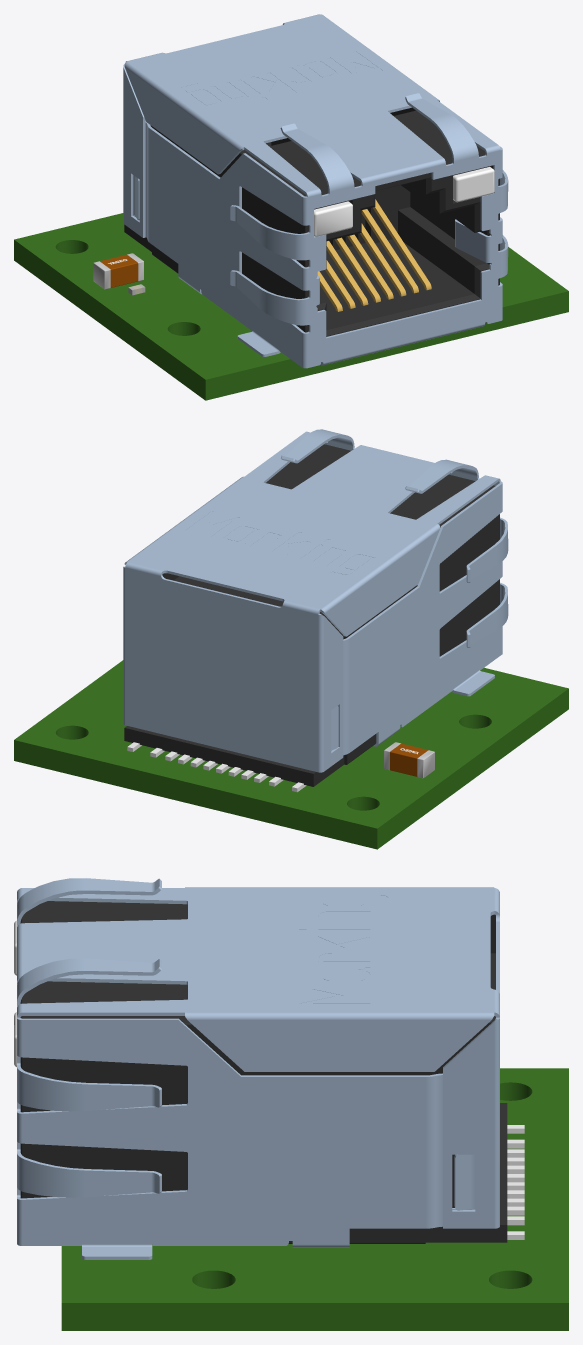
The model's file is LXR45-3d.glb.
3 views of the same model, one above another, from view 1: azimuth 30°, elevation 25°; view 2: azimuth 150°, elevation 25°; view 3: azimuth 270°, elevation 25° (orthographic). The views are drawn at different scales.
Visible parts, largest first — view 1: PCB; view 2: PCB; view 3: PCB.
Part boxes in pixels (x1,y1,x2,y2): PCB: (14, 14, 568, 400); PCB: (14, 429, 568, 849); PCB: (14, 878, 568, 1330).
Bounding box in the file's own units: 0.0292 × 0.0182 × 0.0292.
1 material, 1 textured.
